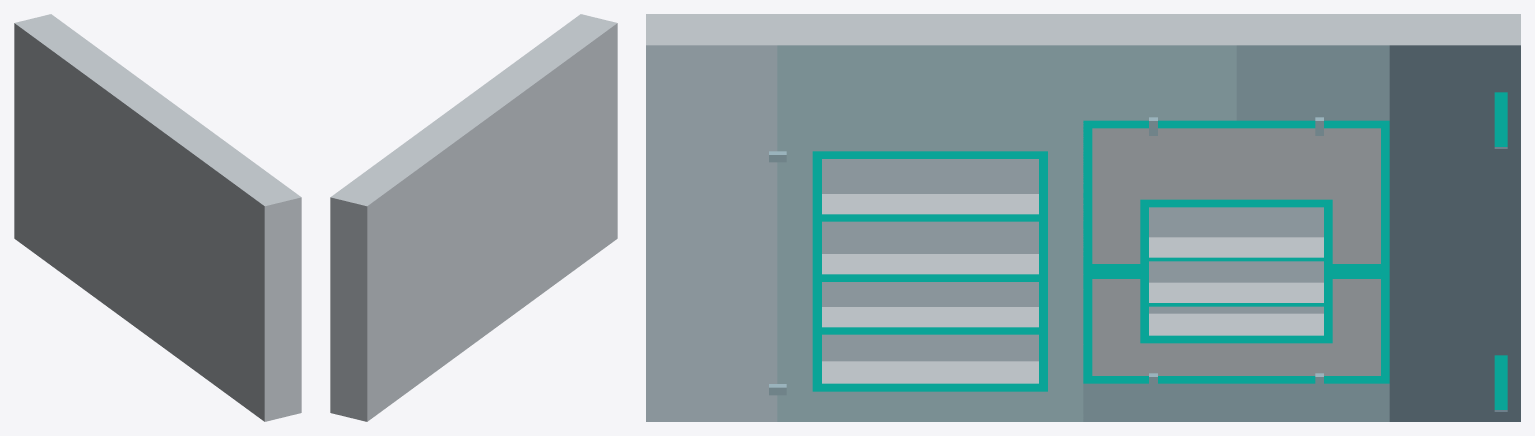
The model's file is wall-04b.fbx.
The picture shows the model from 3 angles, left to right: view 1: azimuth 30°, elevation 25°; view 2: azimuth 150°, elevation 25°; view 3: azimuth 270°, elevation 25°; orthographic projection. The views are drawn at different scales.
Parts seen in each view (by area): view 1: wall-04b; view 2: wall-04b; view 3: wall-04b.
Part boxes in pixels (x1=…): wall-04b: x1=14, y1=14, x2=301, y2=421; wall-04b: x1=330, y1=14, x2=617, y2=421; wall-04b: x1=646, y1=14, x2=1520, y2=421.
Size of the model in its own units: 19 by 95 by 200.
